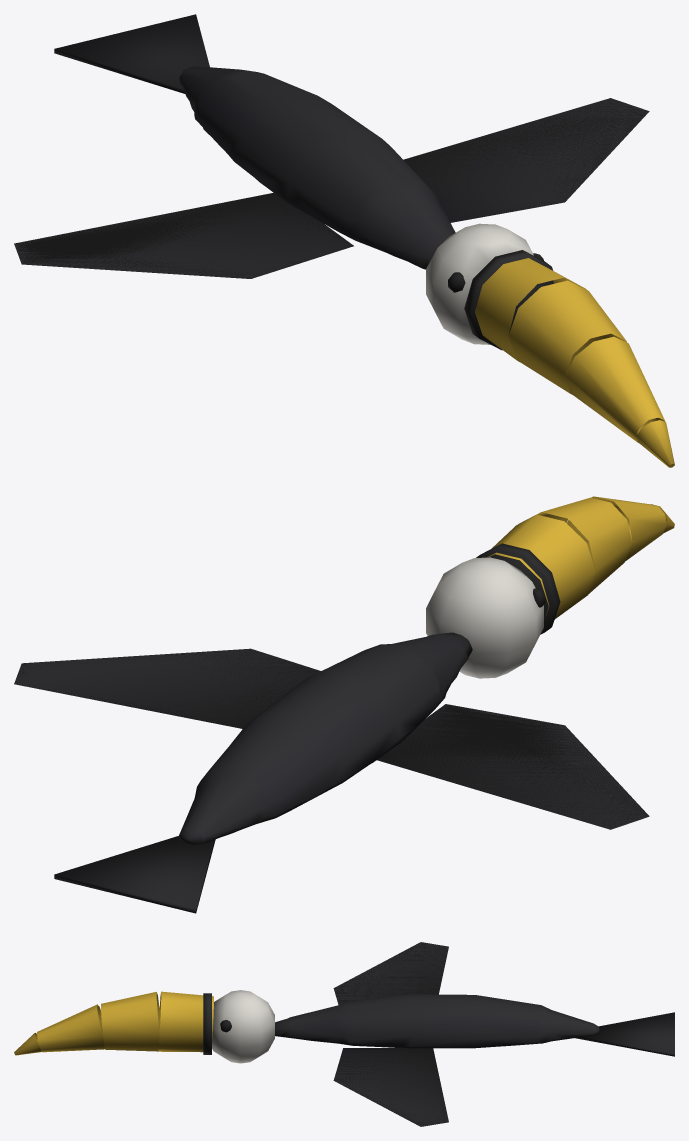
File: tukan.glb
3 renders of one model, top to bottom at view 1: azimuth 30°, elevation 25°; view 2: azimuth 150°, elevation 25°; view 3: azimuth 270°, elevation 25°, orthographic. The views are drawn at different scales.
Parts seen in each view (by area): view 1: lack; view 2: lack; view 3: lack.
Boxes of the visible parts, x1,y1,x2,y2 form: lack: (14, 14, 674, 467); lack: (14, 496, 674, 913); lack: (14, 942, 674, 1126).
Bounding box in the file's own units: 0.62 × 0.104 × 0.9363.
